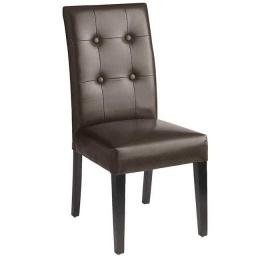Chair: (62, 5, 208, 256)
